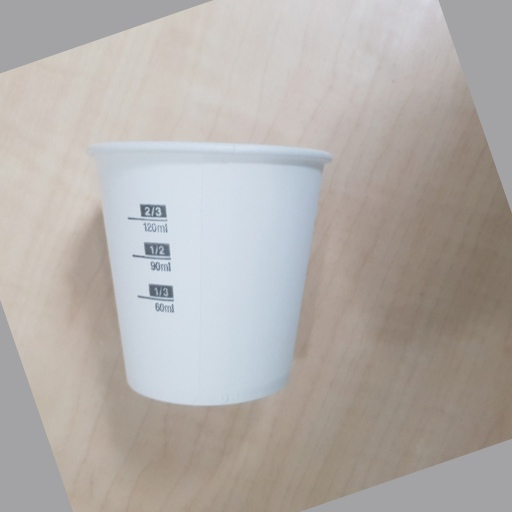Paper_1: (85, 136, 337, 409)
